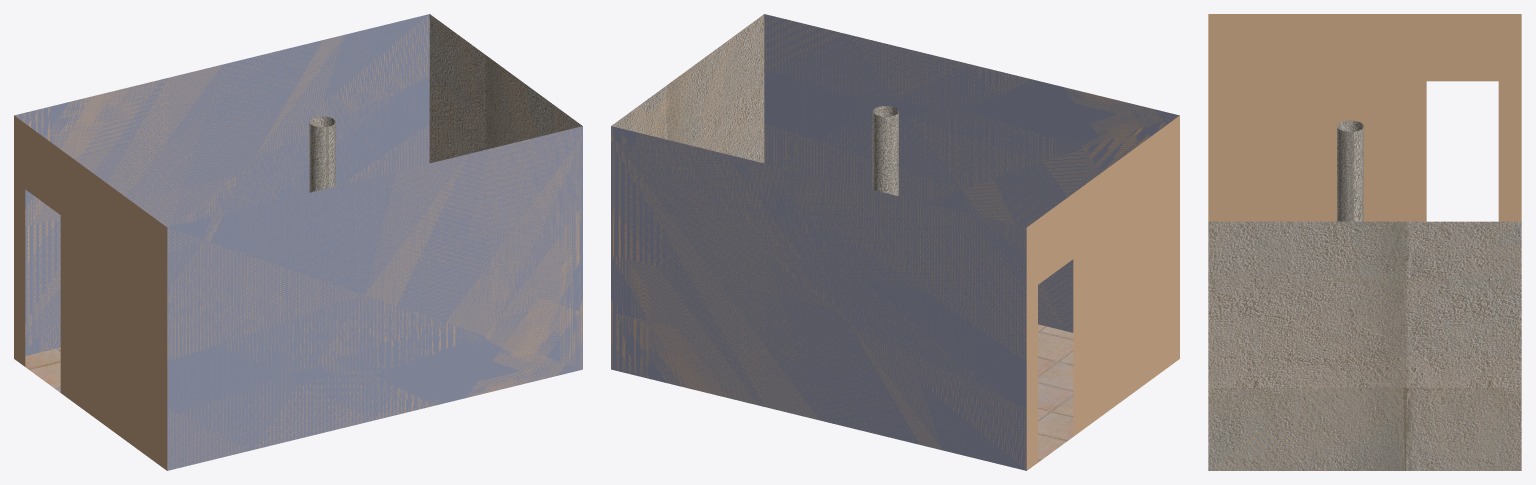
Rendered from COM015.obj.
3 renders of one model, left to right at view 1: azimuth 30°, elevation 25°; view 2: azimuth 150°, elevation 25°; view 3: azimuth 270°, elevation 25°, orthographic. The views are drawn at different scales.
Visible parts, largest first — view 1: Mesh1 COM015 Model; view 2: Mesh1 COM015 Model; view 3: Mesh1 COM015 Model.
Boxes of the visible parts, left/top/right/bottom form: Mesh1 COM015 Model: left=14, top=14, right=582, bottom=470; Mesh1 COM015 Model: left=611, top=14, right=1179, bottom=470; Mesh1 COM015 Model: left=1208, top=14, right=1521, bottom=470.
Bounding box in the file's own units: 6.43 × 3.6 × 4.1.
Materials: 4 (2 with a texture image).
